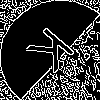K: (25, 25, 84, 80)
